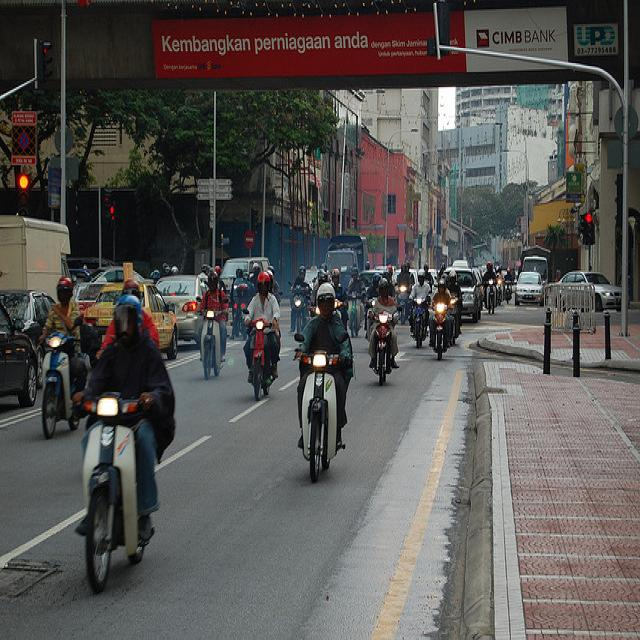motor: (75, 392, 145, 595), (295, 350, 351, 483), (38, 316, 83, 435), (244, 306, 276, 403), (367, 304, 403, 385), (195, 295, 229, 380), (429, 299, 455, 360), (407, 295, 432, 350), (288, 284, 309, 335), (344, 288, 366, 336), (395, 282, 412, 324), (362, 298, 377, 342), (483, 279, 499, 315), (450, 296, 458, 345), (502, 278, 514, 305)
